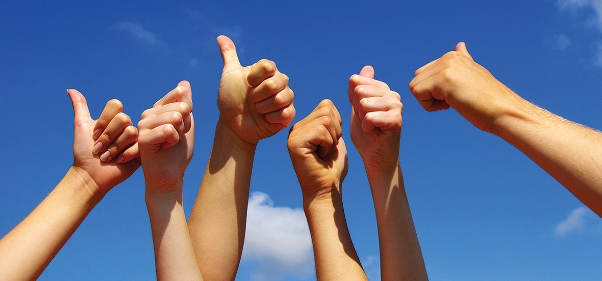thumbsup: (211, 34, 296, 144), (63, 86, 140, 179)
